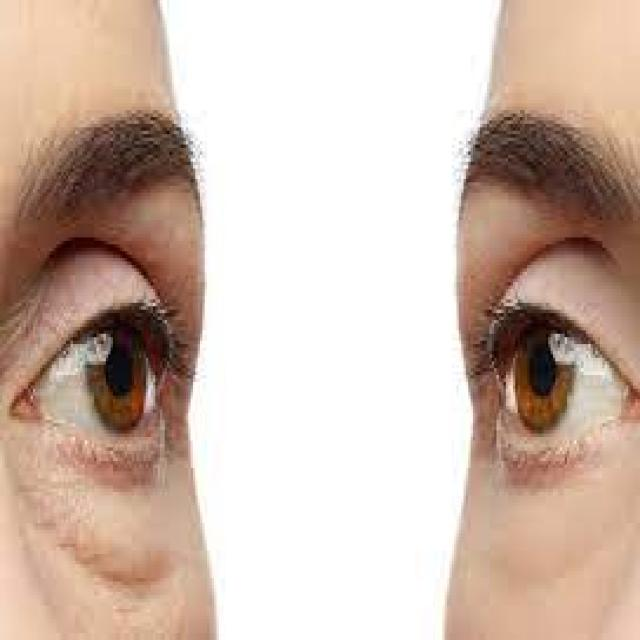Eyes-iris: (78, 304, 154, 429), (513, 310, 576, 431)
